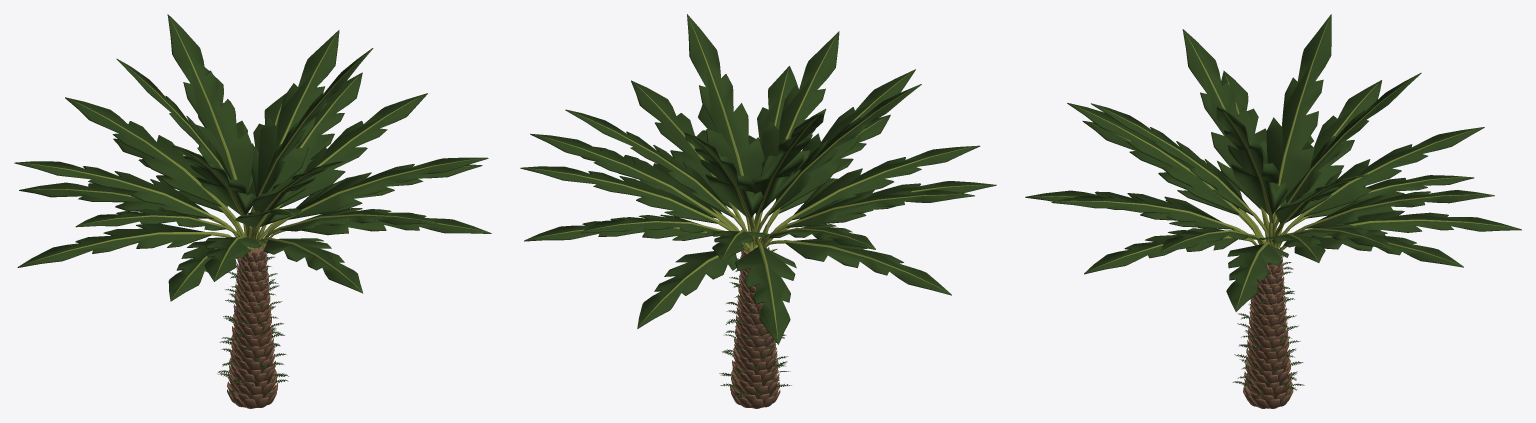
File: Pohon_Sawit.glb
3 views of the same model, side by side, from view 1: azimuth 30°, elevation 25°; view 2: azimuth 150°, elevation 25°; view 3: azimuth 270°, elevation 25° (orthographic).
Parts seen in each view (by area): view 1: Batang; view 2: Batang; view 3: Batang.
Boxes of the visible parts, <box> form: Batang: <box>14,14,491,408</box>; Batang: <box>520,14,996,408</box>; Batang: <box>1025,14,1521,408</box>.
Size of the model in its own units: 12.7 by 9.85 by 12.93.
